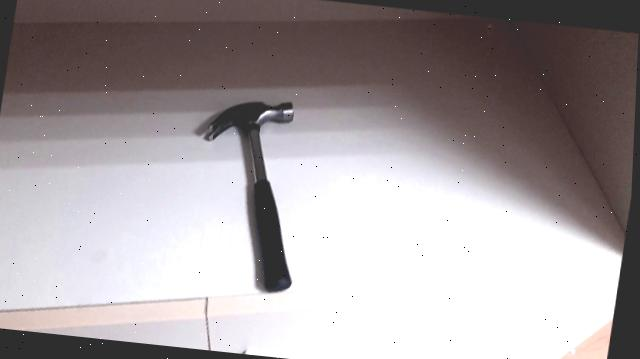hammer: (176, 81, 328, 300)
